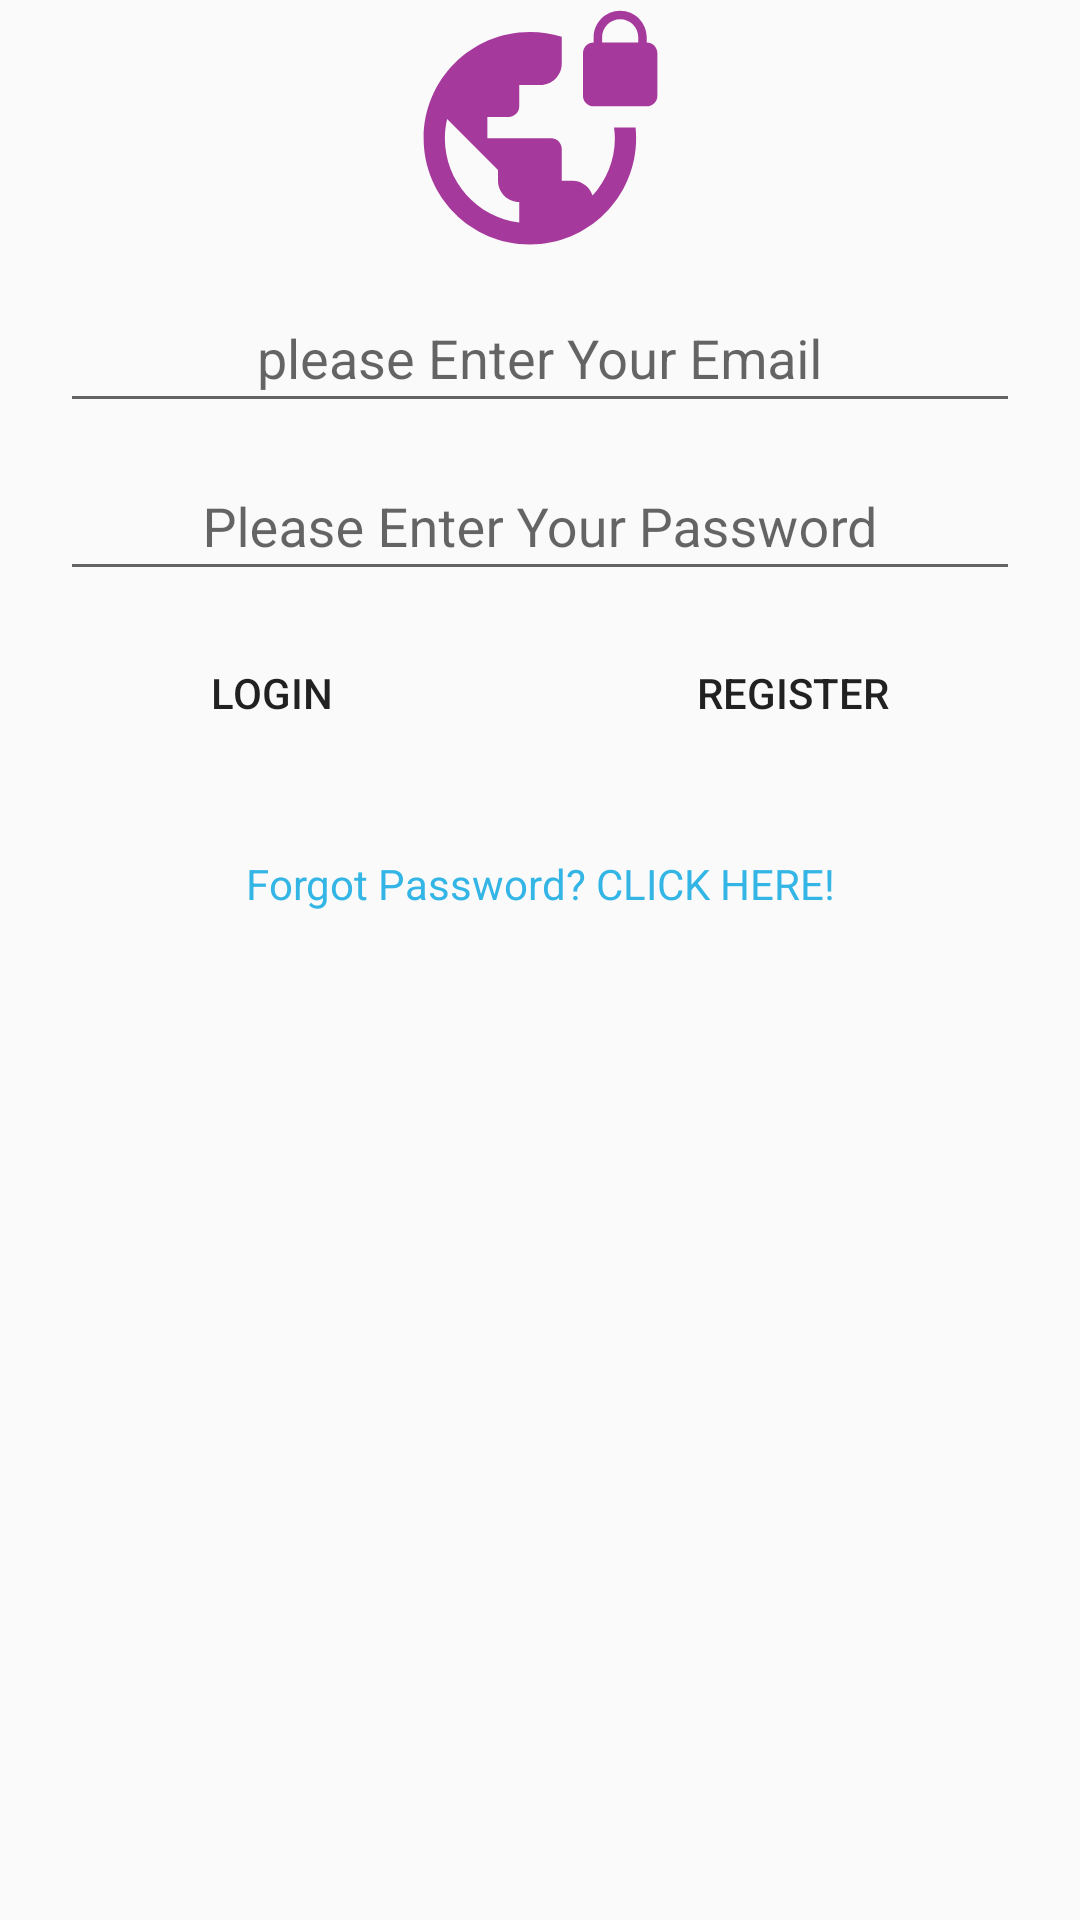

Icon bounding boxes for this 1080px x 1920px phone screenshot, format (x1, y1, x2, y2):
vpn lock: (423, 10, 658, 245)
